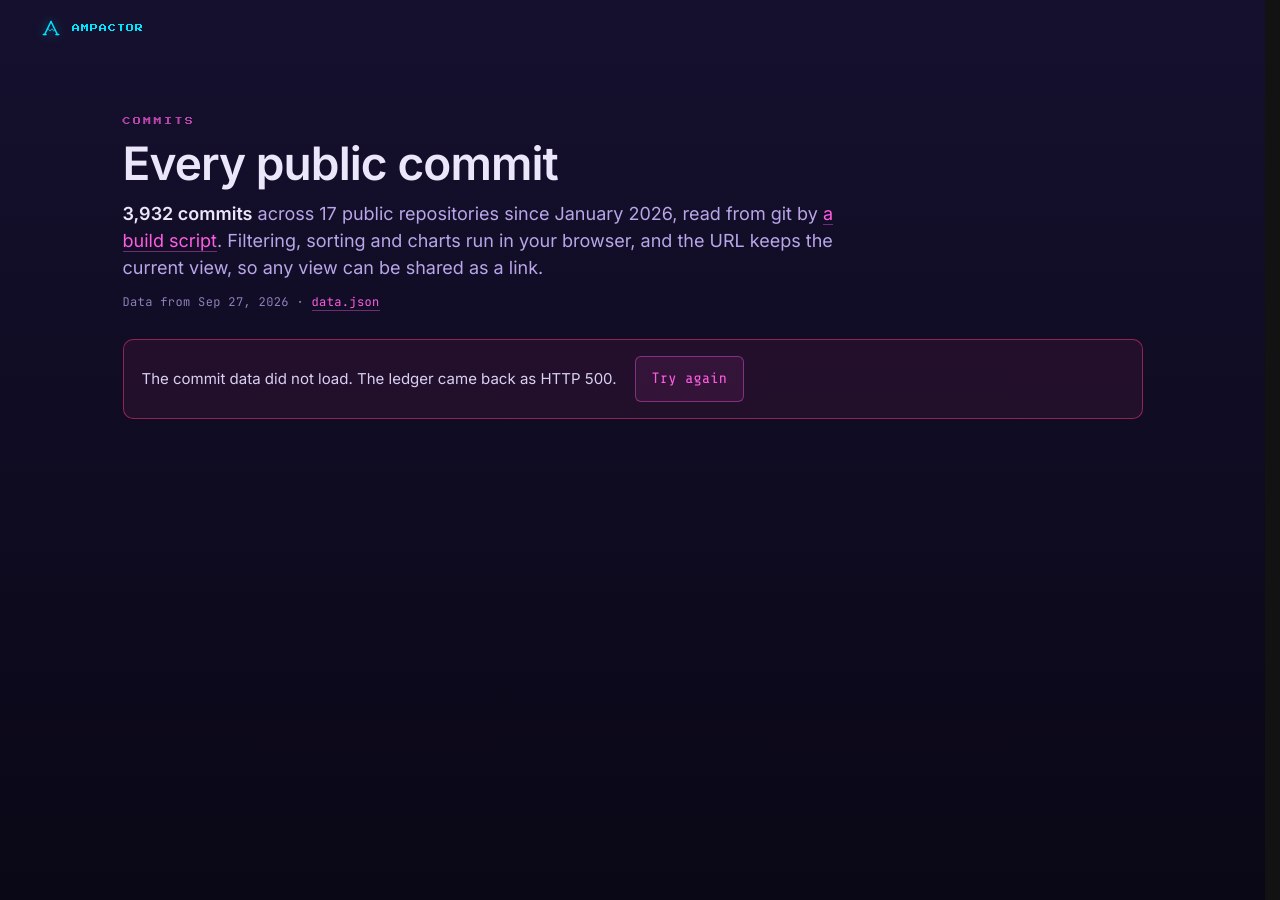
it: ReceiptsApp › shows the error face with a retry when the ledger fails to load
The width and height of the screenshot is (1280, 900).
Expected: the message shows "HTTP 500", x1=357 y1=369 x2=616 y2=388
Click the button "Try again": click(689, 379) x1=634 y1=356 x2=744 y2=402
(page scrolled)
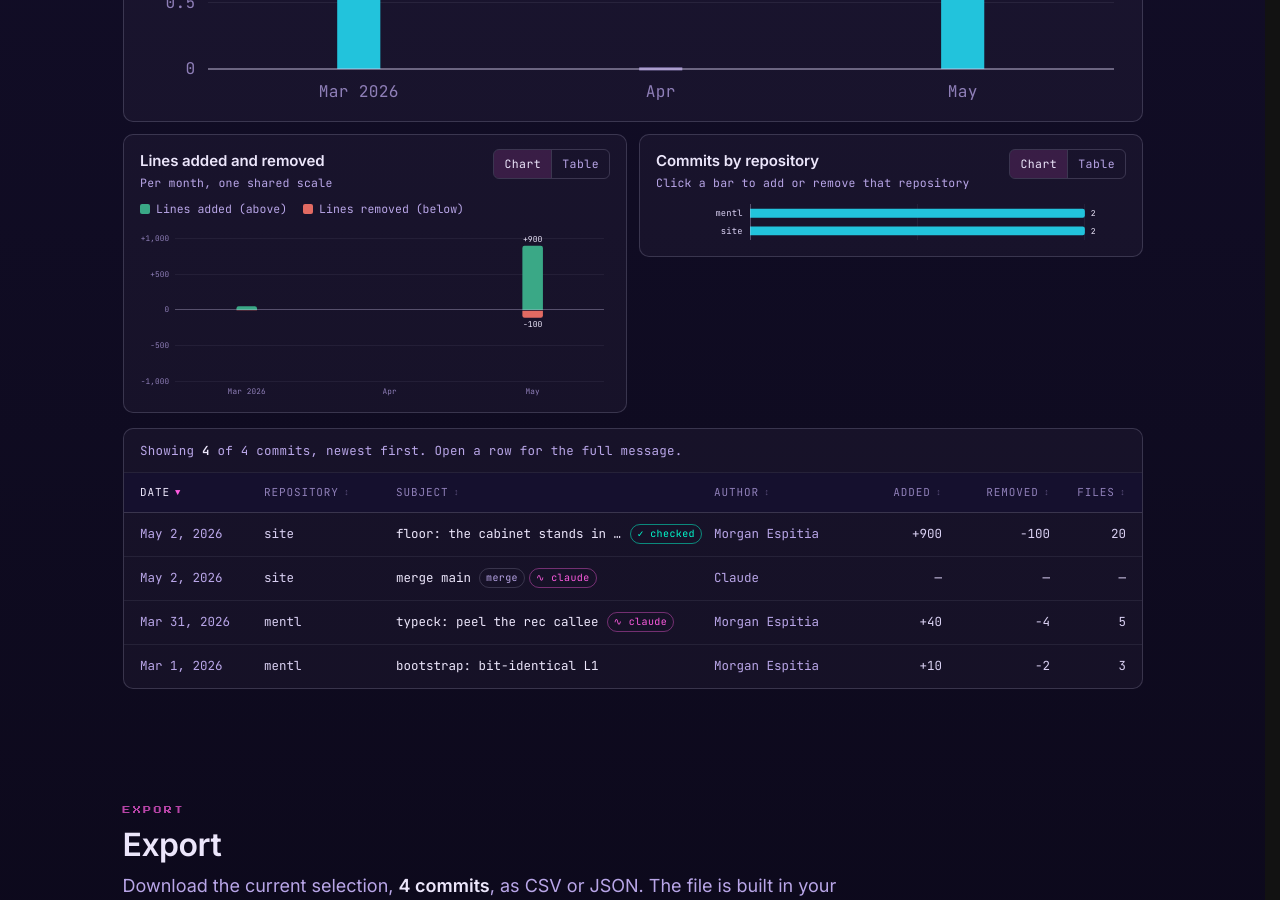
Now the text "Showing" shows "Showing 4 of 4", box x1=124 y1=429 x2=1142 y2=473
